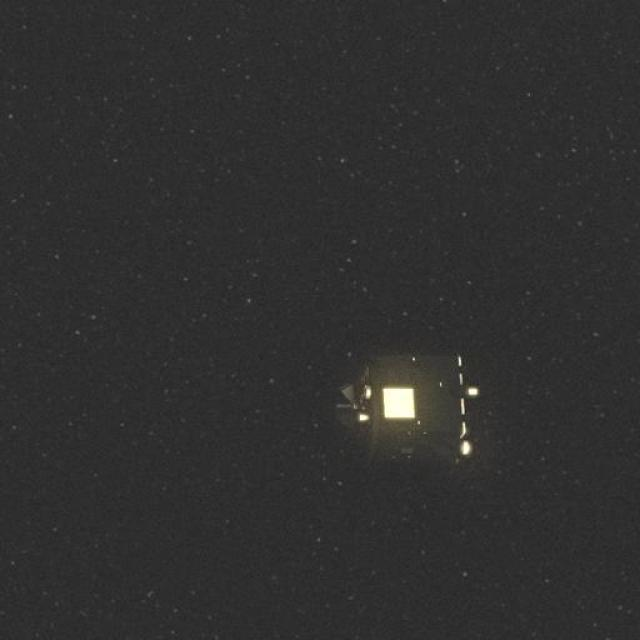proba_3_ocs: (316, 328, 491, 495)
